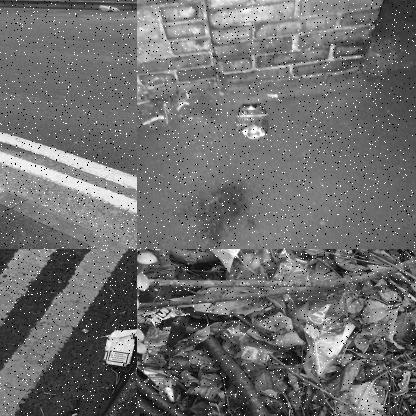metal: (236, 100, 272, 143)
plastic: (199, 249, 365, 343), (100, 331, 136, 369), (95, 0, 121, 17)
